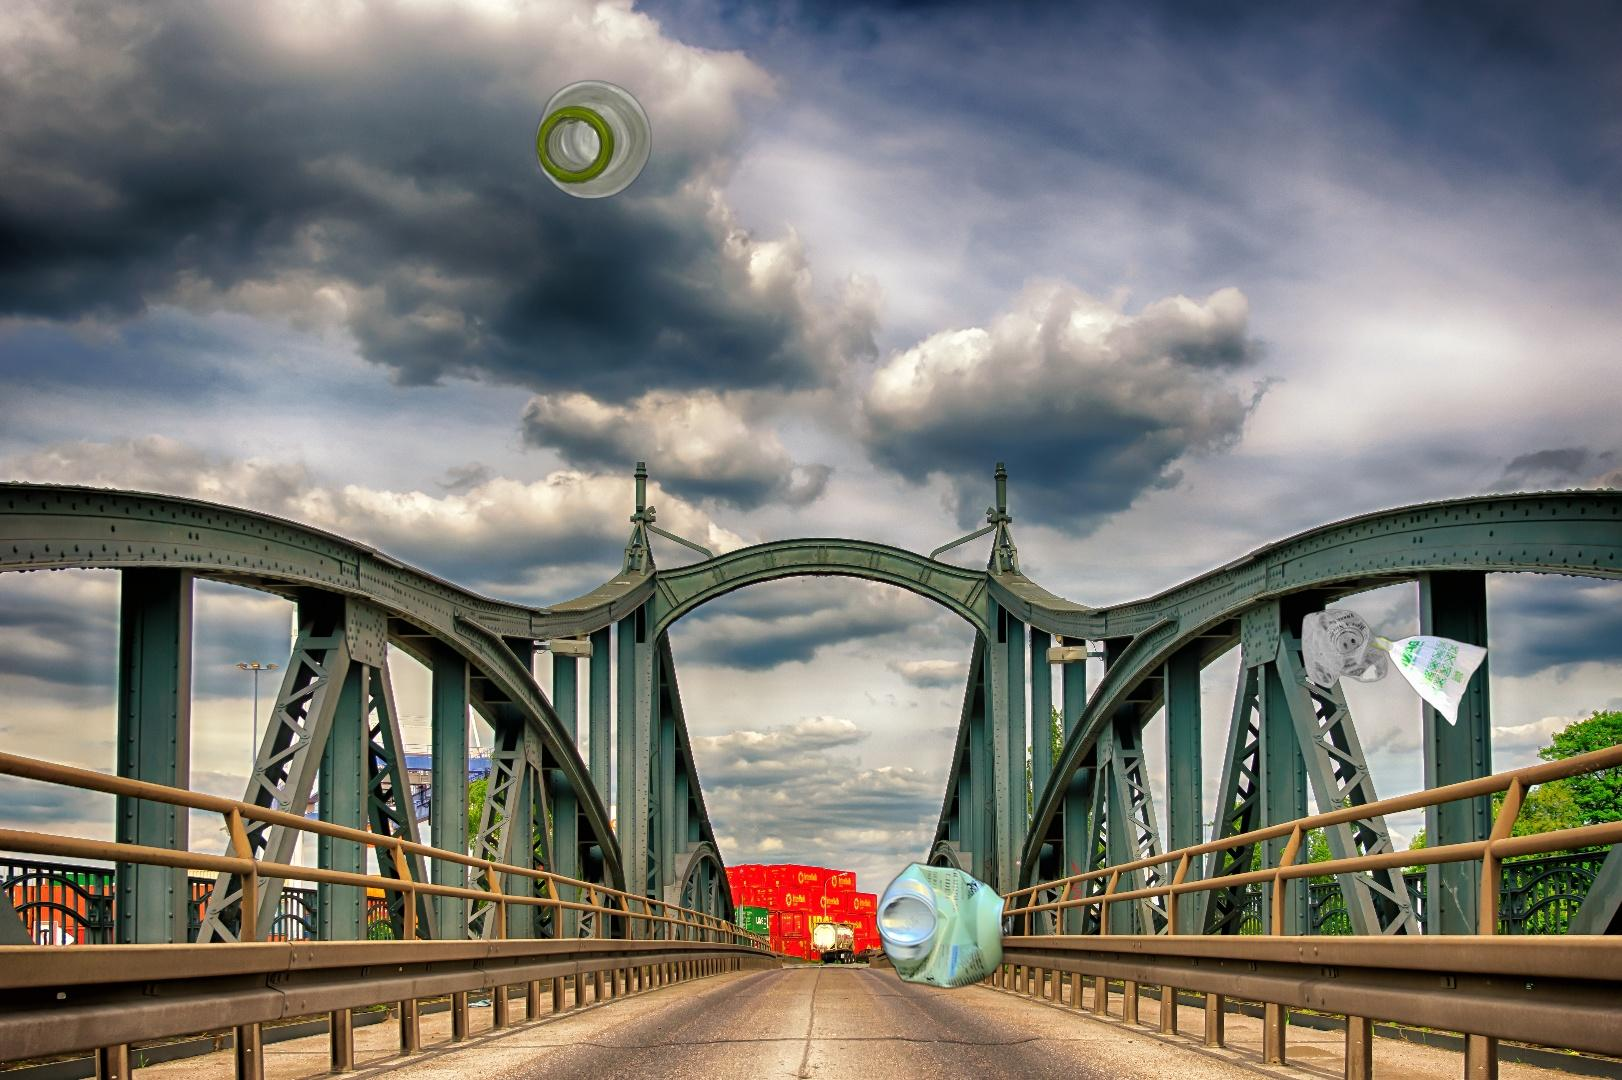glass: (531, 77, 656, 201)
metal-cans: (871, 856, 1016, 994)
plastic-bag: (1298, 606, 1494, 729)
